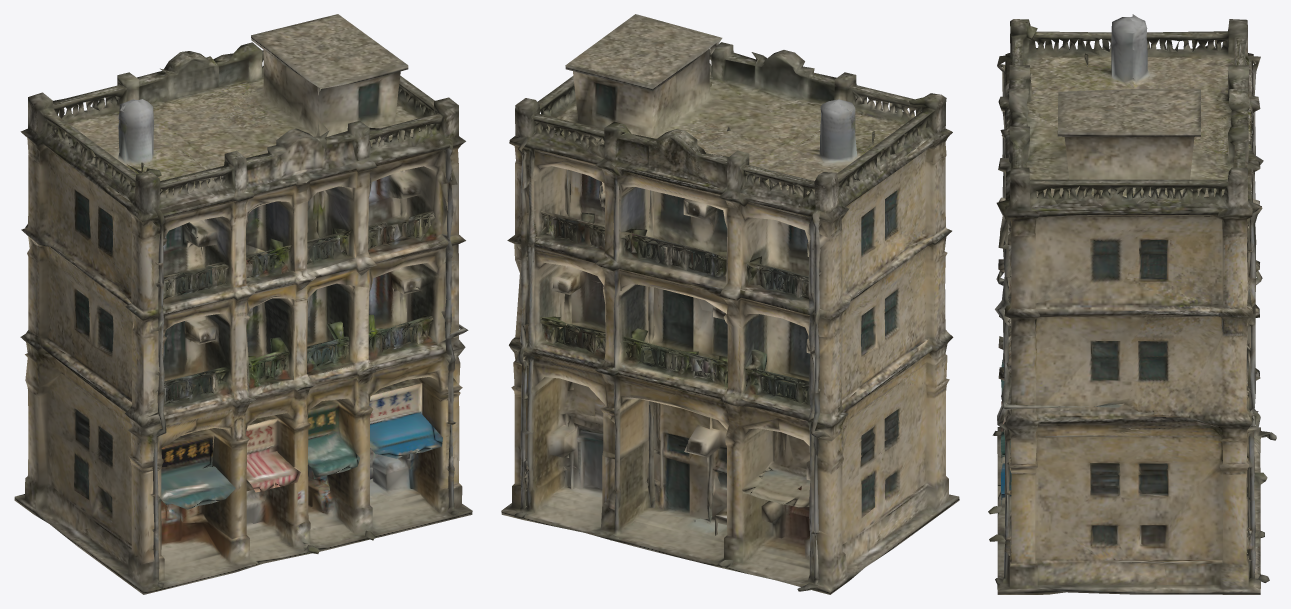
Rendered from historic_building_59.glb.
3 renders of one model, left to right at view 1: azimuth 30°, elevation 25°; view 2: azimuth 150°, elevation 25°; view 3: azimuth 270°, elevation 25°, orthographic. The views are drawn at different scales.
Parts seen in each view (by area): view 1: tripo_node_60a31b84-d70f-4028-9d41-d0e9fe856cee; view 2: tripo_node_60a31b84-d70f-4028-9d41-d0e9fe856cee; view 3: tripo_node_60a31b84-d70f-4028-9d41-d0e9fe856cee.
Part boxes in pixels (<box>): tripo_node_60a31b84-d70f-4028-9d41-d0e9fe856cee: <box>14,14,472,594</box>; tripo_node_60a31b84-d70f-4028-9d41-d0e9fe856cee: <box>501,14,959,594</box>; tripo_node_60a31b84-d70f-4028-9d41-d0e9fe856cee: <box>988,14,1276,594</box>.
Bounding box in the file's own units: 0.7726 × 0.9785 × 0.5757.
Materials: 1 (1 with a texture image).
